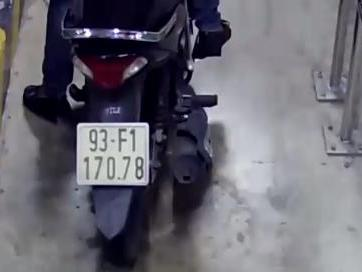num_plate: (78, 124, 151, 186)
